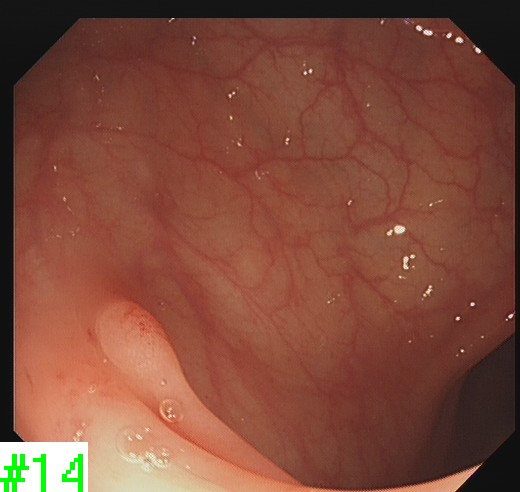adenoma: (90, 298, 177, 376)
